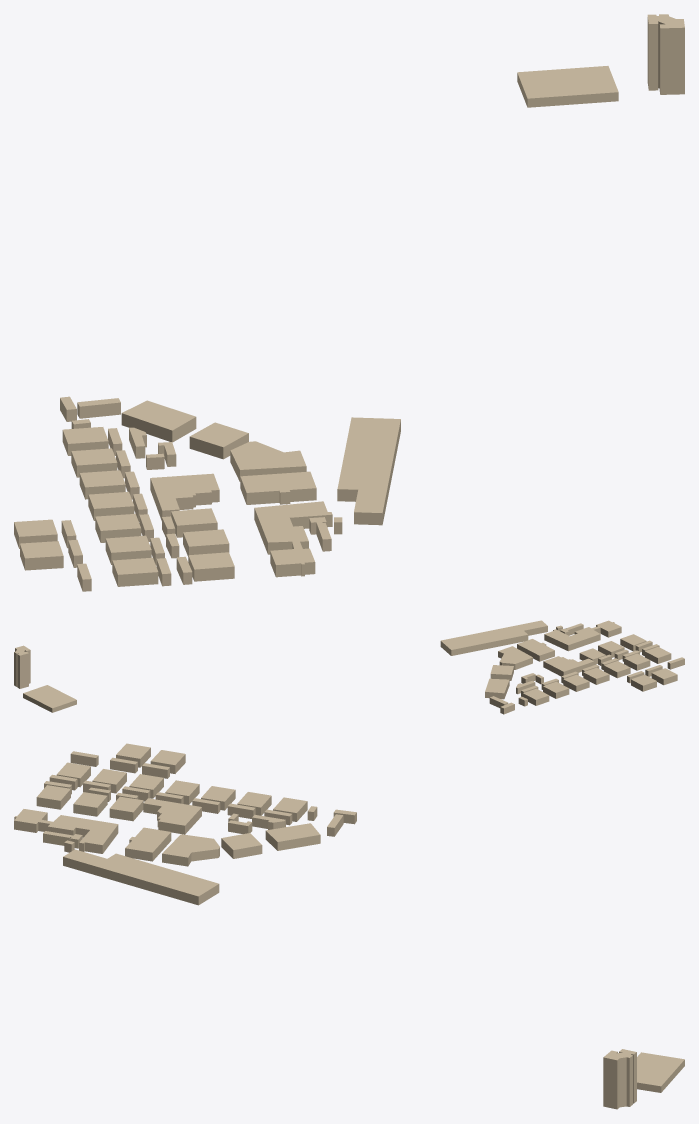
File: -22_21-estimated-coarse.glb
The picture shows the model from 3 angles, top to bottom: view 1: azimuth 30°, elevation 25°; view 2: azimuth 150°, elevation 25°; view 3: azimuth 270°, elevation 25°; orthographic projection. The views are drawn at different scales.
Size of the model in its own units: 1028 by 66 by 816.
